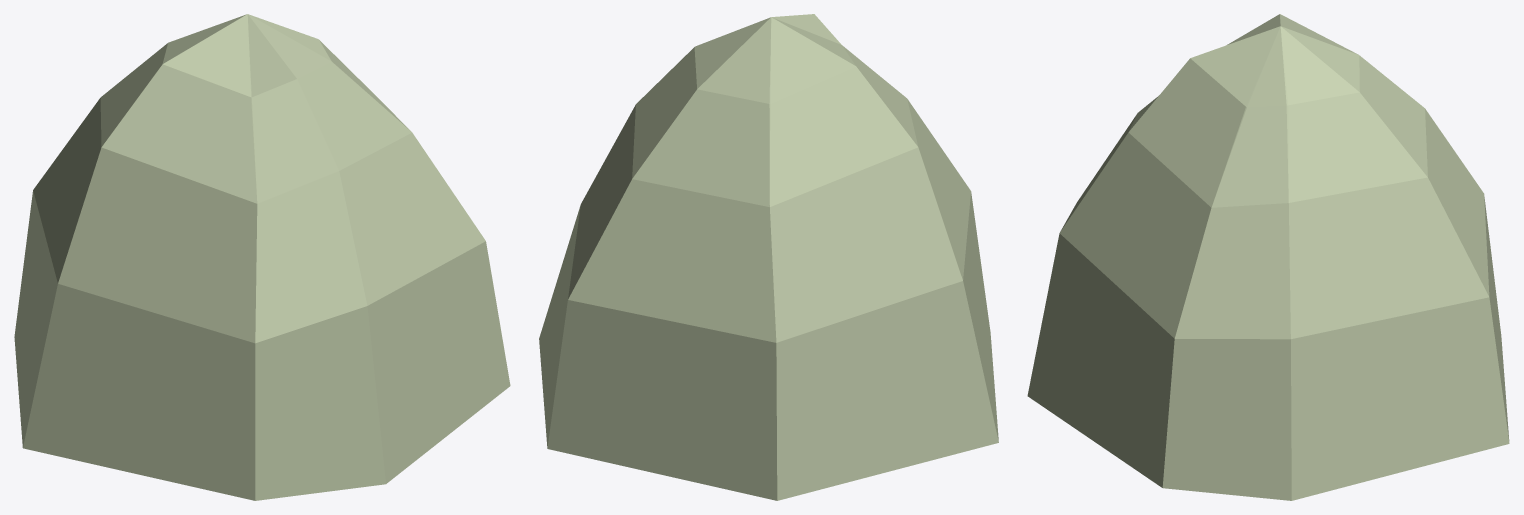
File: Rocks_02.glb
3 renders of one model, left to right at view 1: azimuth 30°, elevation 25°; view 2: azimuth 150°, elevation 25°; view 3: azimuth 270°, elevation 25°, orthographic. The views are drawn at different scales.
Visible parts, largest first — view 1: Rocks_02; view 2: Rocks_02; view 3: Rocks_02.
Part boxes in pixels (x1,y1,x2,y2): Rocks_02: (14, 14, 510, 500); Rocks_02: (539, 14, 998, 500); Rocks_02: (1027, 14, 1509, 500).
Size of the model in its own units: 2.93 by 2.31 by 2.75.
1 material, 1 textured.
